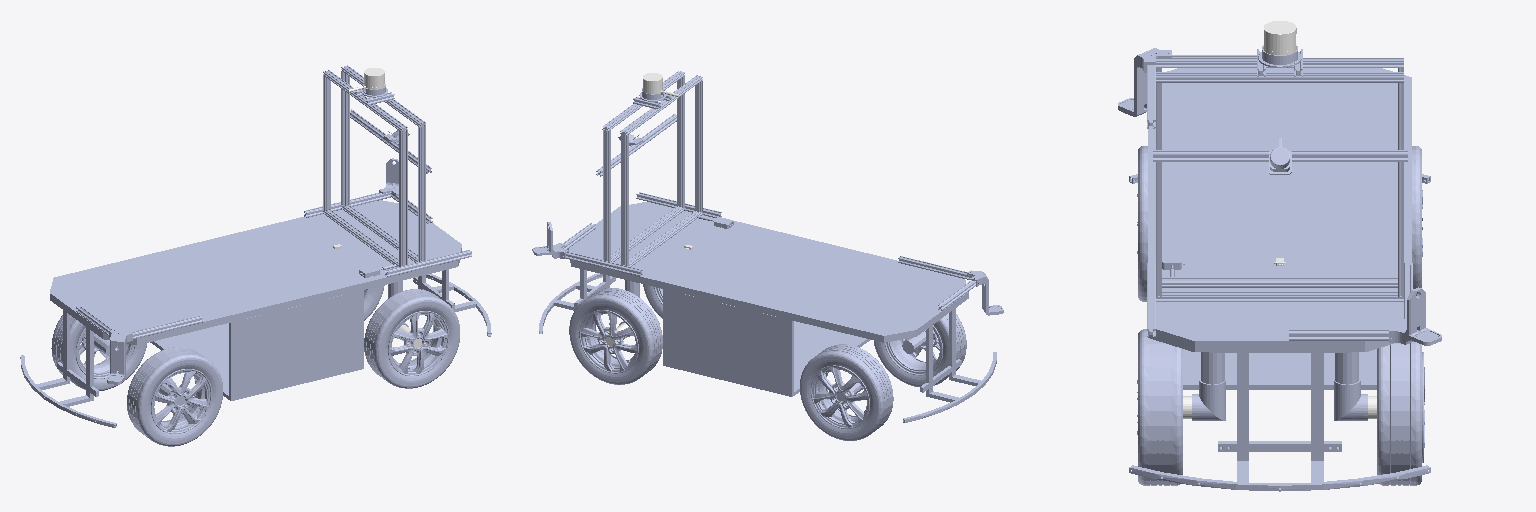
robot.urdf — ackermann_robot:
<?xml version="1.0" encoding="utf-8"?>
<!-- This URDF was automatically created by SolidWorks to URDF Exporter! Originally created by [author] ([email redacted]) 
     Commit Version: 1.6.0-4-g7f85cfe  Build Version: 1.6.7995.38578
     For more information, please see http://wiki.ros.org/sw_urdf_exporter -->
<robot
  name="ackermann_robot">
  <link
    name="base_link">
    <inertial>
      <origin
        xyz="0.11536 -0.0050636 0.1461"
        rpy="0 0 0" />
      <mass
        value="34.018" />
      <inertia
        ixx="3.8058"
        ixy="-0.00019032"
        ixz="-0.000784"
        iyy="1.9958"
        iyz="-0.00080284"
        izz="4.5866" />
    </inertial>
    <visual>
      <origin
        xyz="0 0 0"
        rpy="0 0 0" />
      <geometry>
        <mesh
          filename="package://ackermann_robot/meshes/base_link.STL" />
      </geometry>
      <material
        name="">
        <color
          rgba="0.79216 0.81961 0.93333 1" />
      </material>
    </visual>
    <collision>
      <origin
        xyz="0 0 0"
        rpy="0 0 0" />
      <geometry>
        <mesh
          filename="package://ackermann_robot/meshes/base_link.STL" />
      </geometry>
    </collision>
  </link>
  <link
    name="left_bridge">
    <inertial>
      <origin
        xyz="1.71418435002124E-13 0.07900000000001 -1.20898805033853E-06"
        rpy="0 0 0" />
      <mass
        value="0.7533696262941" />
      <inertia
        ixx="0.00228501716215165"
        ixy="-2.12208964491608E-17"
        ixz="1.02466998380926E-20"
        iyy="0.000501838342315157"
        iyz="1.3144091618611E-17"
        izz="0.00228501716215165" />
    </inertial>
    <visual>
      <origin
        xyz="0 0 0"
        rpy="0 0 0" />
      <geometry>
        <mesh
          filename="package://ackermann_robot/meshes/left_bridge.STL" />
      </geometry>
      <material
        name="">
        <color
          rgba="1 1 1 1" />
      </material>
    </visual>
    <collision>
      <origin
        xyz="0 0 0"
        rpy="0 0 0" />
      <geometry>
        <mesh
          filename="package://ackermann_robot/meshes/left_bridge.STL" />
      </geometry>
    </collision>
  </link>
  <joint
    name="base_link2left_bridge"
    type="revolute">
    <origin
      xyz="0.7 0.283 0"
      rpy="0 0 0" />
    <parent
      link="base_link" />
    <child
      link="left_bridge" />
    <axis
      xyz="0 0 1" />
    <limit
      lower="-1.57"
      upper="1.57"
      effort="150"
      velocity="1" />
  </joint>
  <link
    name="left_front_wheel">
    <inertial>
      <origin
        xyz="2.09412809706322E-05 2.20933540129309E-06 -0.0308322175026052"
        rpy="0 0 0" />
      <mass
        value="3.66233771518346" />
      <inertia
        ixx="0.0789777800725264"
        ixy="2.95439715359758E-06"
        ixz="-1.02359008252007E-07"
        iyy="0.0789667065114899"
        iyz="8.42566900023524E-08"
        izz="0.13936110940375" />
    </inertial>
    <visual>
      <origin
        xyz="0 0 0"
        rpy="0 0 0" />
      <geometry>
        <mesh
          filename="package://ackermann_robot/meshes/left_front_wheel.STL" />
      </geometry>
      <material
        name="">
        <color
          rgba="0.792156862745098 0.819607843137255 0.933333333333333 1" />
      </material>
    </visual>
    <collision>
      <origin
        xyz="0 0 0"
        rpy="0 0 0" />
      <geometry>
        <mesh
          filename="package://ackermann_robot/meshes/left_front_wheel.STL" />
      </geometry>
    </collision>
  </link>
  <joint
    name="left_bridge2wheel"
    type="continuous">
    <origin
      xyz="0 0.14700000000001 0"
      rpy="1.5707963267949 0 3.14159265358979" />
    <parent
      link="left_bridge" />
    <child
      link="left_front_wheel" />
    <axis
      xyz="0 0 -1" />
    <limit
      effort="200"
      velocity="100" />
    <dynamics
      damping="0"
      friction="0" />
  </joint>
  <link
    name="right_bridge">
    <inertial>
      <origin
        xyz="4.21884749357559E-15 -0.0699988768549989 -1.20898800398672E-06"
        rpy="0 0 0" />
      <mass
        value="0.7533696262941" />
      <inertia
        ixx="0.00228501716215165"
        ixy="2.51493253015754E-18"
        ixz="6.14052357849946E-21"
        iyy="0.000501838342315157"
        iyz="-3.69933417903367E-20"
        izz="0.00228501716215165" />
    </inertial>
    <visual>
      <origin
        xyz="0 0 0"
        rpy="0 0 0" />
      <geometry>
        <mesh
          filename="package://ackermann_robot/meshes/right_bridge.STL" />
      </geometry>
      <material
        name="">
        <color
          rgba="1 1 1 1" />
      </material>
    </visual>
    <collision>
      <origin
        xyz="0 0 0"
        rpy="0 0 0" />
      <geometry>
        <mesh
          filename="package://ackermann_robot/meshes/right_bridge.STL" />
      </geometry>
    </collision>
  </link>
  <joint
    name="base_link2right_bridge"
    type="revolute">
    <origin
      xyz="0.7 -0.283 0"
      rpy="0 0 0" />
    <parent
      link="base_link" />
    <child
      link="right_bridge" />
    <axis
      xyz="0 0 1" />
    <limit
      lower="-1.57"
      upper="1.57"
      effort="150"
      velocity="1" />
  </joint>
  <link
    name="right_front_wheel">
    <inertial>
      <origin
        xyz="-7.0782560877003E-06 1.69440860526282E-05 0.0255710768182847"
        rpy="0 0 0" />
      <mass
        value="3.66233875709436" />
      <inertia
        ixx="0.0789667134216851"
        ixy="-2.95885602606404E-06"
        ixz="1.91242482969035E-08"
        iyy="0.0789777741060583"
        iyz="8.45939356175032E-08"
        izz="0.139361109527994" />
    </inertial>
    <visual>
      <origin
        xyz="0 0 0"
        rpy="0 0 0" />
      <geometry>
        <mesh
          filename="package://ackermann_robot/meshes/right_front_wheel.STL" />
      </geometry>
      <material
        name="">
        <color
          rgba="0.792156862745098 0.819607843137255 0.933333333333333 1" />
      </material>
    </visual>
    <collision>
      <origin
        xyz="0 0 0"
        rpy="0 0 0" />
      <geometry>
        <mesh
          filename="package://ackermann_robot/meshes/right_front_wheel.STL" />
      </geometry>
    </collision>
  </link>
  <joint
    name="right_bridge2wheel"
    type="continuous">
    <origin
      xyz="0 -0.137998876854999 0"
      rpy="1.5707963267949 0 3.14159265358979" />
    <parent
      link="right_bridge" />
    <child
      link="right_front_wheel" />
    <axis
      xyz="0 0 -1" />
    <limit
      effort="200"
      velocity="100" />
    <dynamics
      damping="0"
      friction="0" />
  </joint>
  <link
    name="left_back_wheel">
    <inertial>
      <origin
        xyz="1.20651397037541E-05 7.66702450072376E-06 -0.0319648097239131"
        rpy="0 0 0" />
      <mass
        value="4.29303086541313" />
      <inertia
        ixx="0.0809641396114637"
        ixy="1.04841600258E-06"
        ixz="-1.44419441559218E-06"
        iyy="0.0809739431323507"
        iyz="-1.06090719035025E-06"
        izz="0.136684093360126" />
    </inertial>
    <visual>
      <origin
        xyz="0 0 0"
        rpy="0 0 0" />
      <geometry>
        <mesh
          filename="package://ackermann_robot/meshes/left_back_wheel.STL" />
      </geometry>
      <material
        name="">
        <color
          rgba="0.792156862745098 0.819607843137255 0.933333333333333 1" />
      </material>
    </visual>
    <collision>
      <origin
        xyz="0 0 0"
        rpy="0 0 0" />
      <geometry>
        <mesh
          filename="package://ackermann_robot/meshes/left_back_wheel.STL" />
      </geometry>
    </collision>
  </link>
  <joint
    name="base_link2left_back_wheel"
    type="continuous">
    <origin
      xyz="-0.7 0.42 0"
      rpy="1.5708 0 3.1416" />
    <parent
      link="base_link" />
    <child
      link="left_back_wheel" />
    <axis
      xyz="0 0 -1" />
    <limit
      effort="200"
      velocity="100" />
    <dynamics
      damping="0"
      friction="0" />
  </joint>
  <link
    name="right_back_wheel">
    <inertial>
      <origin
        xyz="1.20820484976747E-05 9.21585617641441E-06 0.0319656910851379"
        rpy="0 0 0" />
      <mass
        value="4.29303425414798" />
      <inertia
        ixx="0.0809726460985627"
        ixy="6.44908045002841E-06"
        ixz="1.63565016374505E-06"
        iyy="0.0809695956499148"
        iyz="1.07924678686048E-06"
        izz="0.136688093281897" />
    </inertial>
    <visual>
      <origin
        xyz="0 0 0"
        rpy="0 0 0" />
      <geometry>
        <mesh
          filename="package://ackermann_robot/meshes/right_back_wheel.STL" />
      </geometry>
      <material
        name="">
        <color
          rgba="0.792156862745098 0.819607843137255 0.933333333333333 1" />
      </material>
    </visual>
    <collision>
      <origin
        xyz="0 0 0"
        rpy="0 0 0" />
      <geometry>
        <mesh
          filename="package://ackermann_robot/meshes/right_back_wheel.STL" />
      </geometry>
    </collision>
  </link>
  <joint
    name="base_link2right_back_wheel"
    type="continuous">
    <origin
      xyz="-0.7 -0.42 0"
      rpy="1.5708 0 3.1416" />
    <parent
      link="base_link" />
    <child
      link="right_back_wheel" />
    <axis
      xyz="0 0 1" />
    <limit
      effort="200"
      velocity="100" />
    <dynamics
      damping="0"
      friction="0" />
  </joint>
  <link
    name="v3_laser1">
    <inertial>
      <origin
        xyz="-0.000361225398806231 2.85766622143413E-07 -0.0107368239446819"
        rpy="0 0 0" />
      <mass
        value="0.231447907084966" />
      <inertia
        ixx="0.000148241054327453"
        ixy="4.32060349634224E-09"
        ixz="-1.90168514768504E-06"
        iyy="0.000153361311623963"
        iyz="1.6119818030809E-09"
        izz="0.000138198675573988" />
    </inertial>
    <visual>
      <origin
        xyz="0 0 0"
        rpy="0 0 0" />
      <geometry>
        <mesh
          filename="package://ackermann_robot/meshes/v3_laser1.STL" />
      </geometry>
      <material
        name="">
        <color
          rgba="0.792156862745098 0.819607843137255 0.933333333333333 1" />
      </material>
    </visual>
    <collision>
      <origin
        xyz="0 0 0"
        rpy="0 0 0" />
      <geometry>
        <mesh
          filename="package://ackermann_robot/meshes/v3_laser1.STL" />
      </geometry>
    </collision>
  </link>
  <joint
    name="base_link2v3_laser1"
    type="fixed">
    <origin
      xyz="1.1054 0.47486 0.48263"
      rpy="0 0 0.7854" />
    <parent
      link="base_link" />
    <child
      link="v3_laser1" />
    <axis
      xyz="0 0 0" />
  </joint>
  <link
    name="v3_laser2">
    <inertial>
      <origin
        xyz="-0.000362150031453456 1.39652408507555E-07 -0.0107376024957997"
        rpy="0 0 0" />
      <mass
        value="0.231440210741203" />
      <inertia
        ixx="0.000148243516038"
        ixy="5.03660442512924E-09"
        ixz="-1.9018728968781E-06"
        iyy="0.000153360330839167"
        iyz="1.54362816568134E-09"
        izz="0.000138200026215348" />
    </inertial>
    <visual>
      <origin
        xyz="0 0 0"
        rpy="0 0 0" />
      <geometry>
        <mesh
          filename="package://ackermann_robot/meshes/v3_laser2.STL" />
      </geometry>
      <material
        name="">
        <color
          rgba="0.792156862745098 0.819607843137255 0.933333333333333 1" />
      </material>
    </visual>
    <collision>
      <origin
        xyz="0 0 0"
        rpy="0 0 0" />
      <geometry>
        <mesh
          filename="package://ackermann_robot/meshes/v3_laser2.STL" />
      </geometry>
    </collision>
  </link>
  <joint
    name="base_link2v3_laser2"
    type="fixed">
    <origin
      xyz="0.86426 0.0005 0.96122"
      rpy="0 0.7854 0" />
    <parent
      link="base_link" />
    <child
      link="v3_laser2" />
    <axis
      xyz="0 0 0" />
  </joint>
  <link
    name="v3_laser3">
    <inertial>
      <origin
        xyz="-0.000361223938170951 2.88154043071032E-07 -0.0107368243593007"
        rpy="0 0 0" />
      <mass
        value="0.231447921030966" />
      <inertia
        ixx="0.00014824107195428"
        ixy="4.30340668296518E-09"
        ixz="-1.90168254358978E-06"
        iyy="0.000153361317074451"
        iyz="1.61605194826313E-09"
        izz="0.000138198696967615" />
    </inertial>
    <visual>
      <origin
        xyz="0 0 0"
        rpy="0 0 0" />
      <geometry>
        <mesh
          filename="package://ackermann_robot/meshes/v3_laser3.STL" />
      </geometry>
      <material
        name="">
        <color
          rgba="0.792156862745098 0.819607843137255 0.933333333333333 1" />
      </material>
    </visual>
    <collision>
      <origin
        xyz="0 0 0"
        rpy="0 0 0" />
      <geometry>
        <mesh
          filename="package://ackermann_robot/meshes/v3_laser3.STL" />
      </geometry>
    </collision>
  </link>
  <joint
    name="base_link2v3_laser3"
    type="fixed">
    <origin
      xyz="-1.1054 -0.47486 0.27463"
      rpy="0 0 -2.3562" />
    <parent
      link="base_link" />
    <child
      link="v3_laser3" />
    <axis
      xyz="0 0 0" />
  </joint>
  <link
    name="v16_laser">
    <inertial>
      <origin
        xyz="-0.00244486329735083 -3.97325861827657E-14 0.00130590946111764"
        rpy="0 0 0" />
      <mass
        value="0.737681470017988" />
      <inertia
        ixx="0.000925063835022186"
        ixy="-3.98264932376364E-15"
        ixz="-5.64611580185198E-05"
        iyy="0.00112839587978525"
        iyz="8.02312997596725E-15"
        izz="0.00122599514535256" />
    </inertial>
    <visual>
      <origin
        xyz="0 0 0"
        rpy="0 0 0" />
      <geometry>
        <mesh
          filename="package://ackermann_robot/meshes/v16_laser.STL" />
      </geometry>
      <material
        name="">
        <color
          rgba="1 1 1 1" />
      </material>
    </visual>
    <collision>
      <origin
        xyz="0 0 0"
        rpy="0 0 0" />
      <geometry>
        <mesh
          filename="package://ackermann_robot/meshes/v16_laser.STL" />
      </geometry>
    </collision>
  </link>
  <joint
    name="base_link2v16_laser"
    type="fixed">
    <origin
      xyz="0.7 0 1.3079"
      rpy="0 0 0" />
    <parent
      link="base_link" />
    <child
      link="v16_laser" />
    <axis
      xyz="0 0 0" />
  </joint>
  <link
    name="IMU">
    <inertial>
      <origin
        xyz="0 0 0"
        rpy="0 0 0" />
      <mass
        value="0" />
      <inertia
        ixx="0"
        ixy="0"
        ixz="0"
        iyy="0"
        iyz="0"
        izz="0" />
    </inertial>
    <visual>
      <origin
        xyz="0 0 0"
        rpy="0 0 0" />
      <geometry>
        <mesh
          filename="package://ackermann_robot/meshes/IMU.STL" />
      </geometry>
      <material
        name="">
        <color
          rgba="1 1 1 1" />
      </material>
    </visual>
    <collision>
      <origin
        xyz="0 0 0"
        rpy="0 0 0" />
      <geometry>
        <mesh
          filename="package://ackermann_robot/meshes/IMU.STL" />
      </geometry>
    </collision>
  </link>
  <joint
    name="base_link2IMU"
    type="fixed">
    <origin
      xyz="0.4806 0 0.414901208988048"
      rpy="3.14159265358979 0 0" />
    <parent
      link="base_link" />
    <child
      link="IMU" />
    <axis
      xyz="0 0 0" />
  </joint>
</robot>

--- Facts derived from the render (not from the file) ---
Views: 3 orthographic renders of the robot side by side, from view 1: azimuth 30°, elevation 25°; view 2: azimuth 150°, elevation 25°; view 3: azimuth 270°, elevation 25°.
Robot: ackermann_robot — 12 links, 11 joints (2 revolute, 4 continuous, 5 fixed); root link base_link; default pose: all joints at 0.
Visible links, largest first — view 1: base_link, right_back_wheel, right_front_wheel, left_back_wheel; view 2: base_link, left_back_wheel, left_front_wheel, right_back_wheel; view 3: base_link, left_front_wheel, right_front_wheel, right_back_wheel, left_back_wheel, v16_laser.
Boxes of the visible links, x1=… form: base_link: x1=20, y1=65, x2=491, y2=427; right_back_wheel: x1=127, y1=347, x2=222, y2=446; right_front_wheel: x1=364, y1=289, x2=459, y2=388; left_back_wheel: x1=51, y1=315, x2=146, y2=390; base_link: x1=532, y1=71, x2=1003, y2=422; left_back_wheel: x1=800, y1=344, x2=893, y2=440; left_front_wheel: x1=569, y1=288, x2=662, y2=384; right_back_wheel: x1=874, y1=313, x2=966, y2=386; base_link: x1=1118, y1=45, x2=1441, y2=491; left_front_wheel: x1=1377, y1=342, x2=1424, y2=485; right_front_wheel: x1=1137, y1=329, x2=1182, y2=485; right_back_wheel: x1=1137, y1=146, x2=1147, y2=301; left_back_wheel: x1=1412, y1=146, x2=1422, y2=295; v16_laser: x1=1264, y1=21, x2=1296, y2=54.
Bounding box of the posed robot: 2.5 × 1.05 × 1.6 m (x, y, z).
Meshes: 12 distinct files referenced, 10 mesh visuals loaded (10 binary STL); not drawn: 2 (reference not matched to a file when rendering).